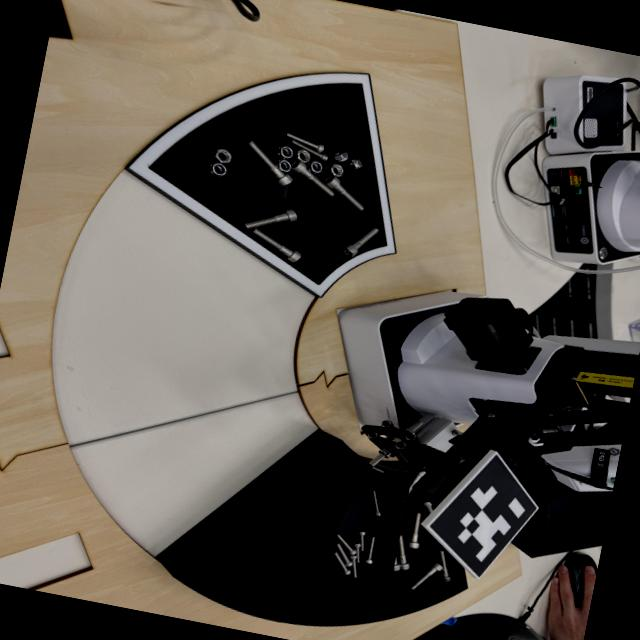big: (238, 137, 298, 194), (245, 225, 308, 271), (288, 157, 341, 200), (322, 171, 367, 216), (339, 220, 384, 263), (404, 556, 446, 593), (241, 205, 301, 230), (408, 510, 427, 551), (434, 549, 455, 585), (396, 533, 412, 572)
board: (97, 31, 431, 312)
box: (151, 389, 374, 632), (280, 448, 415, 640), (354, 464, 476, 619)
circle: (211, 144, 238, 166), (205, 160, 230, 179), (326, 161, 348, 179), (274, 145, 296, 161), (345, 155, 365, 172), (294, 148, 314, 164), (331, 148, 351, 164), (276, 158, 295, 173), (306, 160, 324, 175)
small: (282, 130, 326, 154), (289, 139, 331, 164), (332, 532, 359, 557), (329, 550, 352, 579), (332, 541, 355, 570), (367, 487, 385, 520), (363, 534, 382, 565), (350, 540, 362, 564), (348, 554, 359, 579), (357, 528, 366, 553)
